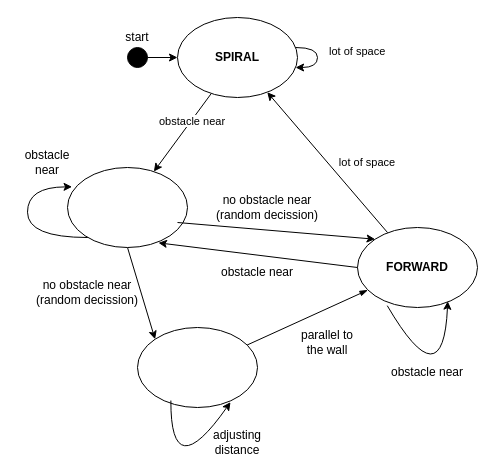
Image size: 504x475. Some labels were removed from this diagram. The box of each missing label's shape, as (x1, y1, x2, y2) in pixels:
FOLLOW_WALL: (136, 326, 258, 408)
TURN: (66, 166, 188, 248)
